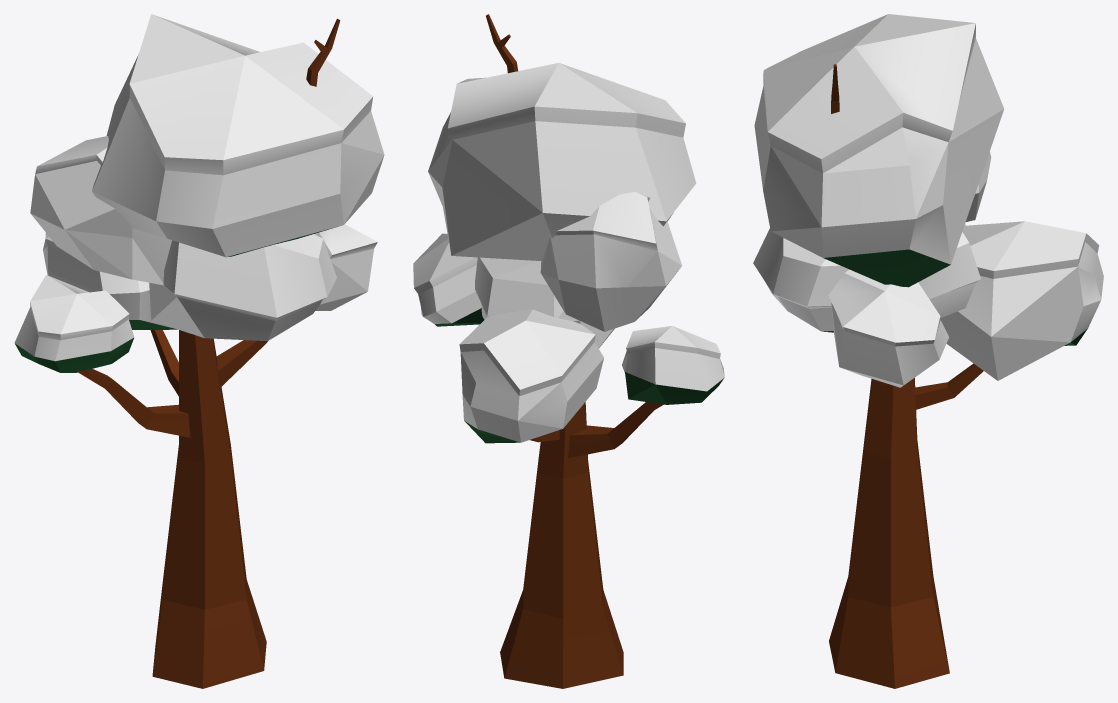
Rendered from Winter_007.fbx.
The picture shows the model from 3 angles, left to right: view 1: azimuth 30°, elevation 25°; view 2: azimuth 150°, elevation 25°; view 3: azimuth 270°, elevation 25°; orthographic projection. The views are drawn at different scales.
Parts seen in each view (by area): view 1: Winter_007; view 2: Winter_007; view 3: Winter_007.
Part boxes in pixels (box(x1,y1,x2,y2)): Winter_007: box(14, 14, 384, 688); Winter_007: box(413, 14, 724, 688); Winter_007: box(753, 14, 1103, 688).
Bounding box in the file's own units: 2.64 × 4.92 × 2.43.
